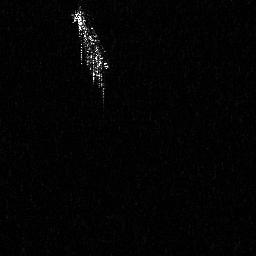ship: (70, 3, 110, 111)
